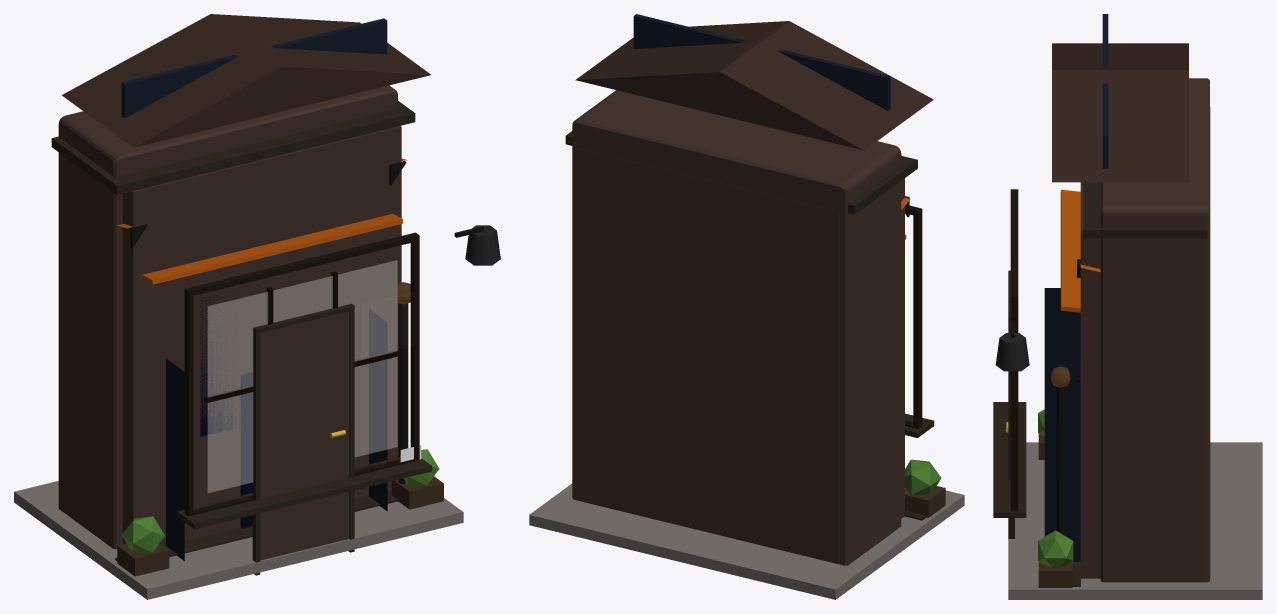
Rendered from vintage.glb.
3 renders of one model, left to right at view 1: azimuth 30°, elevation 25°; view 2: azimuth 150°, elevation 25°; view 3: azimuth 270°, elevation 25°, orthographic. The views are drawn at different scales.
Visible parts, largest first — view 1: object 33, FacadeBody, Roof_Style, Door_Leaf (×2), FacadeGlass, Trim, object 38, Interior_Recess, Sign_Plane, Door_Frame, object 9, Awning_Canopy (+12 smaller); view 2: object 33, FacadeBody, Roof_Style, Trim, Sign_Plane, object 7, object 38, Foliage_Left, Planter_Left; view 3: FacadeBody, Roof_Style, Trim, object 33, Interior_Recess, object 9, Awning_Canopy, object 38, object 8, object 39, Lantern_Housing, Foliage_Right (+4 smaller).
Boxes of the visible parts, x1,y1,x2,y2 form: object 33: (122, 126, 401, 546); FacadeBody: (58, 85, 397, 549); Roof_Style: (62, 14, 430, 147); Door_Leaf (×2): (240, 311, 349, 560); FacadeGlass: (208, 260, 397, 492); Trim: (14, 481, 463, 599); object 38: (51, 101, 415, 194); Interior_Recess: (166, 309, 387, 560); Sign_Plane: (121, 18, 387, 118); Door_Frame: (252, 303, 354, 575); object 9: (177, 457, 432, 529); Awning_Canopy: (142, 213, 403, 284); object 33: (579, 149, 904, 564); FacadeBody: (572, 90, 901, 565); Roof_Style: (575, 21, 933, 150); Trim: (529, 483, 964, 599); Sign_Plane: (633, 14, 890, 110); object 7: (913, 207, 922, 428); object 38: (565, 131, 917, 214); Foliage_Left: (905, 459, 941, 495); Planter_Left: (905, 486, 945, 517); FacadeBody: (1100, 78, 1209, 582); Roof_Style: (1052, 43, 1188, 182); Trim: (1008, 442, 1262, 599); object 33: (1080, 107, 1210, 578); Interior_Recess: (1044, 288, 1080, 561); object 9: (993, 402, 1026, 517); Awning_Canopy: (1060, 189, 1080, 312); object 38: (1083, 182, 1207, 238); object 8: (1010, 294, 1018, 509); object 39: (1056, 386, 1065, 535); Lantern_Housing: (995, 333, 1029, 371); Foliage_Right: (1038, 530, 1073, 568).
Size of the model in its own units: 4.1 by 5.35 by 2.85.
